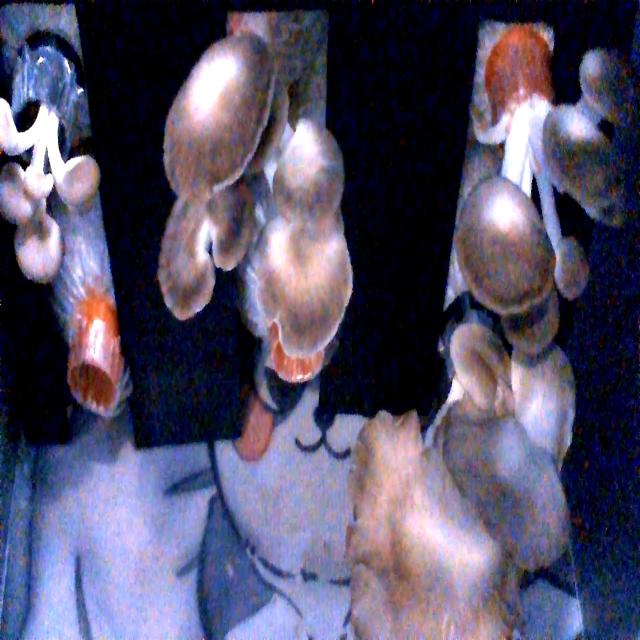big: (152, 41, 363, 387), (332, 356, 569, 640), (456, 24, 634, 337)
nfound: (70, 343, 137, 437)
small: (0, 97, 103, 291)
